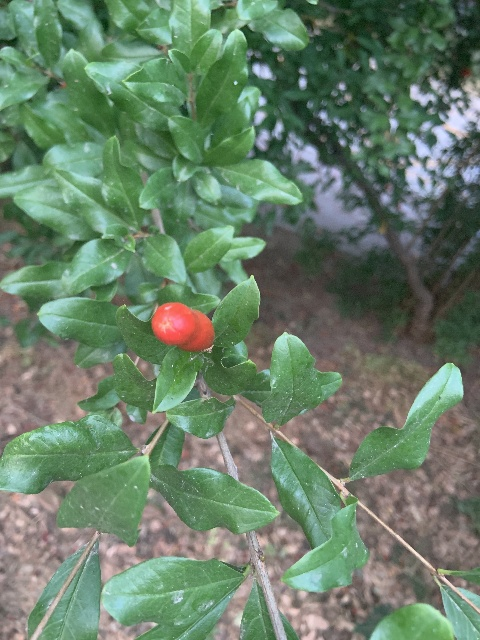bud: (151, 302, 214, 352)
